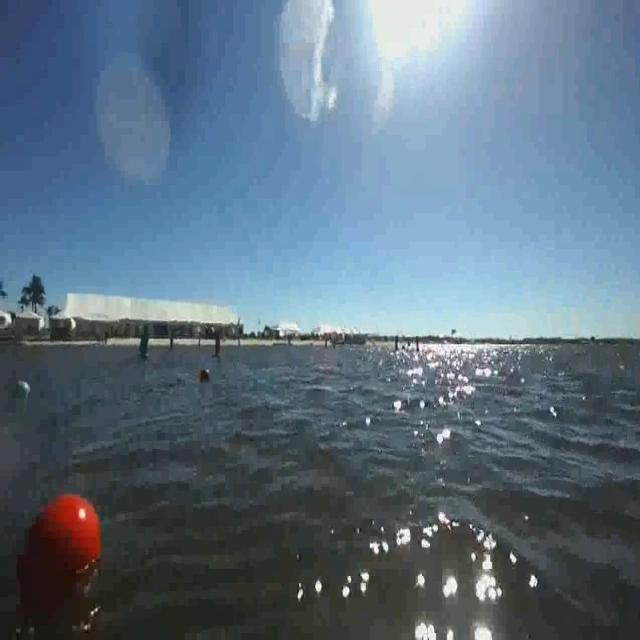black-buoy: (200, 366, 211, 381)
green-buoy: (11, 380, 30, 401)
green-column-buoy: (137, 324, 153, 361)
red-buoy: (12, 485, 112, 628)
